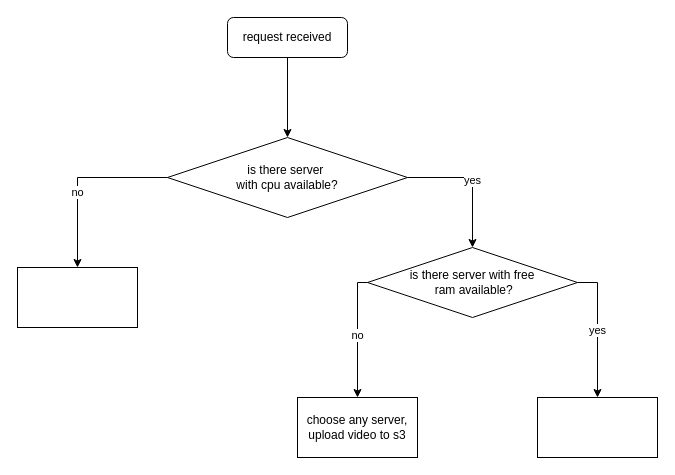
Some shapes in this 675 by 475 pixel diagram are drawn without their labels. The box of each missing label's shape, as (x1, y1, x2, y2) in pixels:
choose server with free ram: (536, 396, 658, 458)
put the request to queue: (16, 266, 138, 328)
